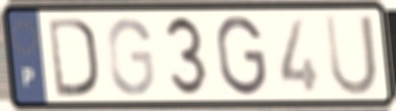3: (163, 12, 211, 100)
4: (276, 15, 322, 95)
D: (45, 15, 100, 99)
G: (213, 13, 269, 99), (105, 14, 157, 98)
U: (322, 12, 381, 98)
